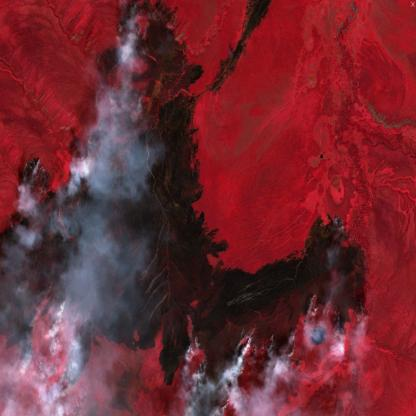fire: (0, 0, 375, 416)
